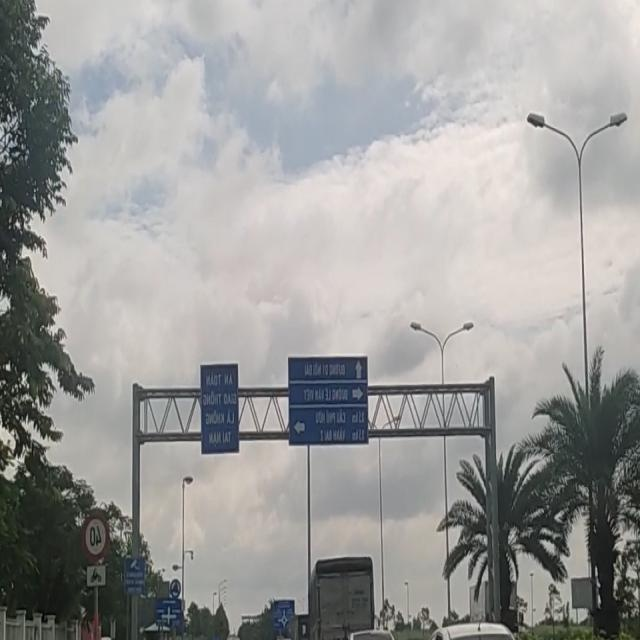P.127*40: (83, 511, 109, 559)
S.505a*Xe may: (85, 561, 109, 589)
